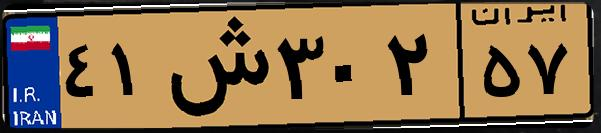0: (330, 28, 385, 110)
1: (110, 28, 158, 98)
2: (385, 28, 445, 110)
3: (270, 28, 330, 110)
4: (57, 26, 110, 100)
5: (475, 38, 525, 113)
7: (525, 38, 570, 115)
ش: (158, 12, 270, 120)
